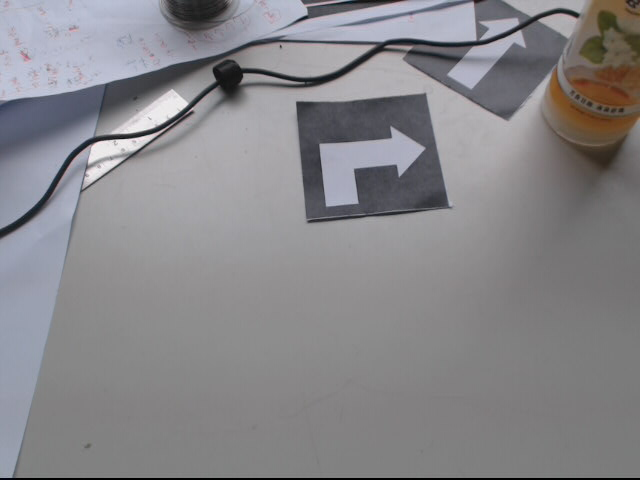right: (295, 95, 453, 223)
